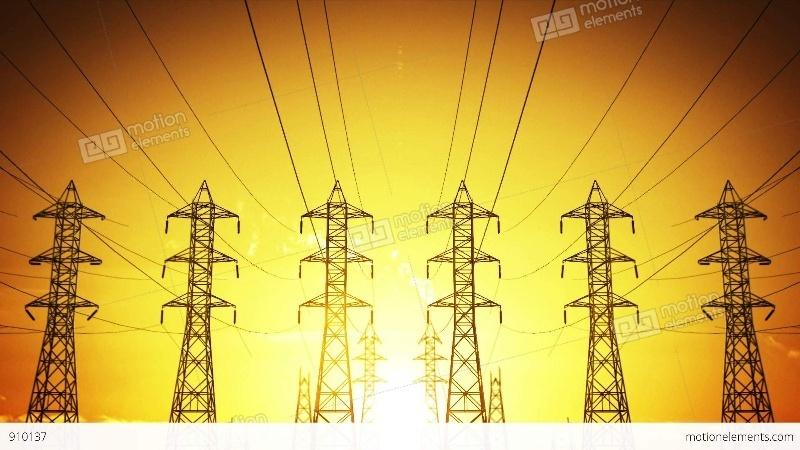power_tower: (541, 174, 649, 410), (286, 183, 391, 423), (417, 184, 519, 423), (681, 183, 781, 414), (159, 181, 239, 414), (27, 181, 97, 417)
